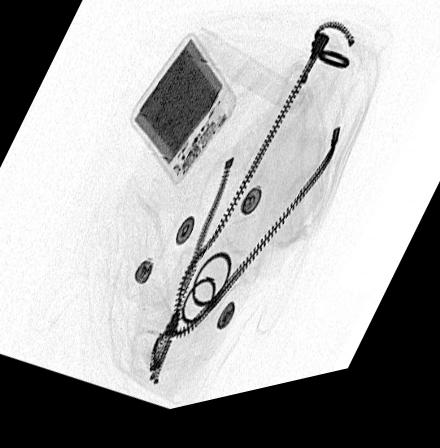Powerbank: (128, 40, 238, 193)
